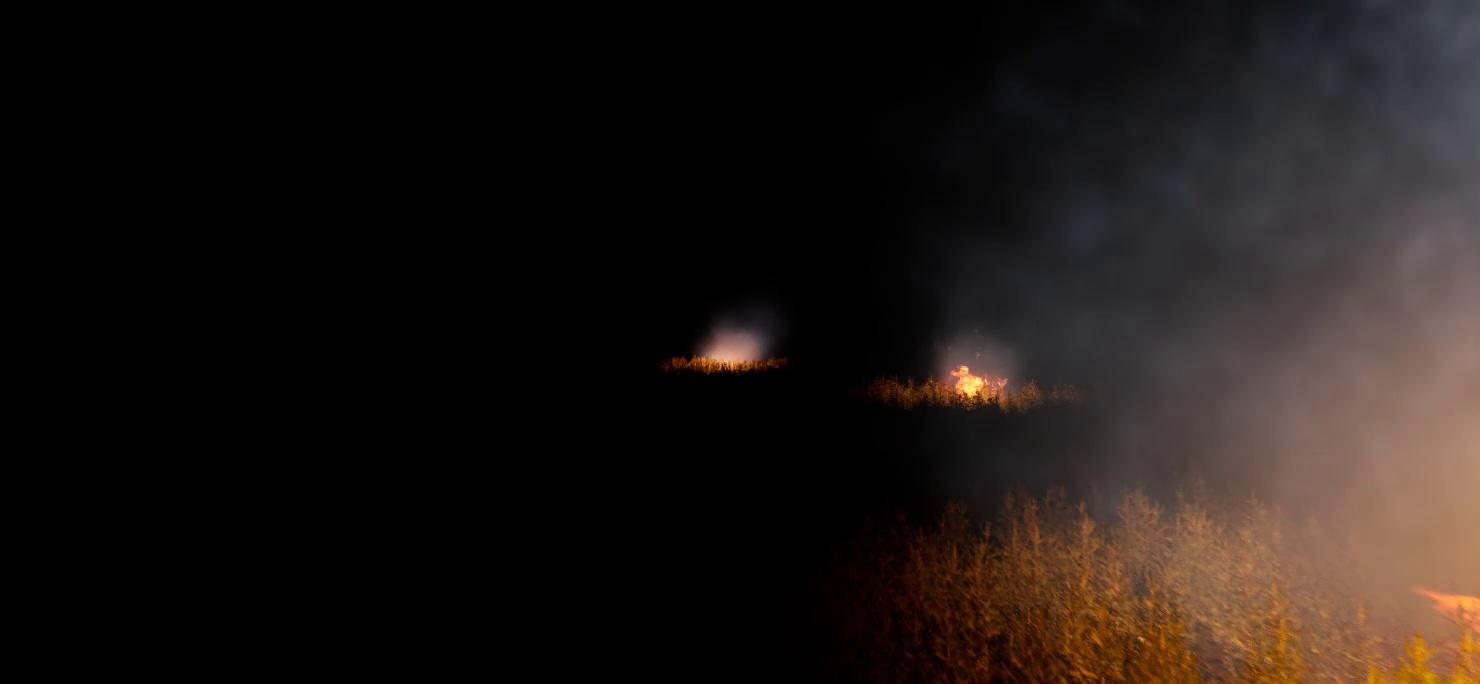fire: (948, 362, 1003, 394)
smoke: (948, 36, 1479, 683), (709, 317, 766, 371)
